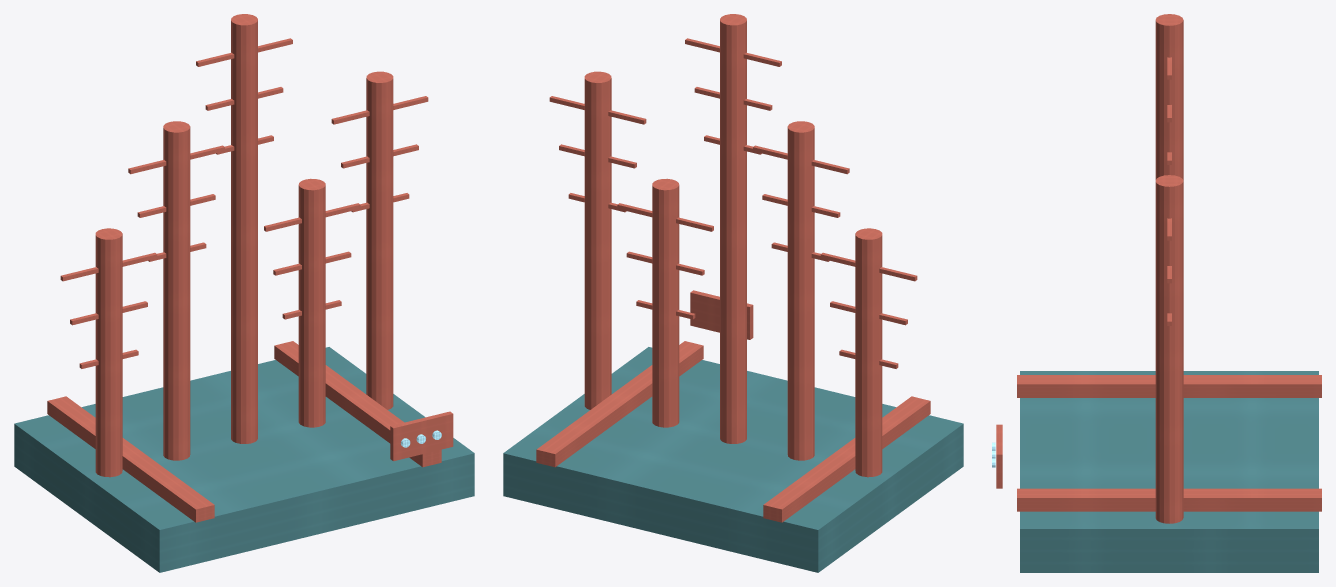
Rendered from atlas100-s079-a01.glb.
3 views of the same model, side by side, from view 1: azimuth 30°, elevation 25°; view 2: azimuth 150°, elevation 25°; view 3: azimuth 270°, elevation 25° (orthographic). The views are drawn at different scales.
Parts seen in each view (by area): view 1: atlas100-s079-a01:part-000, atlas100-s079-a01:part-013, atlas100-s079-a01:part-008, atlas100-s079-a01:part-023, atlas100-s079-a01:part-003, atlas100-s079-a01:part-018, atlas100-s079-a01:part-001, atlas100-s079-a01:part-002, atlas100-s079-a01:part-028; view 2: atlas100-s079-a01:part-000, atlas100-s079-a01:part-013, atlas100-s079-a01:part-008, atlas100-s079-a01:part-023, atlas100-s079-a01:part-003, atlas100-s079-a01:part-018, atlas100-s079-a01:part-002, atlas100-s079-a01:part-001, atlas100-s079-a01:part-028; view 3: atlas100-s079-a01:part-000, atlas100-s079-a01:part-023, atlas100-s079-a01:part-002, atlas100-s079-a01:part-001, atlas100-s079-a01:part-013, atlas100-s079-a01:part-028.
Part boxes in pixels (x1,y1,x2,y2): atlas100-s079-a01:part-000: (14, 347, 474, 572); atlas100-s079-a01:part-013: (231, 14, 257, 443); atlas100-s079-a01:part-008: (163, 121, 190, 460); atlas100-s079-a01:part-023: (366, 71, 393, 409); atlas100-s079-a01:part-003: (95, 228, 122, 477); atlas100-s079-a01:part-018: (298, 178, 325, 427); atlas100-s079-a01:part-001: (47, 396, 214, 522); atlas100-s079-a01:part-002: (274, 341, 441, 467); atlas100-s079-a01:part-028: (390, 411, 453, 461); atlas100-s079-a01:part-000: (503, 347, 963, 572); atlas100-s079-a01:part-013: (720, 14, 746, 443); atlas100-s079-a01:part-008: (787, 121, 814, 460); atlas100-s079-a01:part-023: (584, 71, 611, 409); atlas100-s079-a01:part-003: (855, 228, 882, 477); atlas100-s079-a01:part-018: (652, 178, 679, 427); atlas100-s079-a01:part-002: (536, 341, 703, 467); atlas100-s079-a01:part-001: (763, 396, 930, 522); atlas100-s079-a01:part-028: (690, 290, 753, 339); atlas100-s079-a01:part-000: (1020, 371, 1318, 572); atlas100-s079-a01:part-023: (1155, 175, 1183, 523); atlas100-s079-a01:part-002: (1017, 488, 1321, 511); atlas100-s079-a01:part-001: (1017, 375, 1321, 397); atlas100-s079-a01:part-013: (1155, 14, 1183, 180); atlas100-s079-a01:part-028: (996, 424, 1002, 488).
Bounding box in the file's own units: 2.32 × 2.8 × 1.77.
3 materials, 3 textured.
